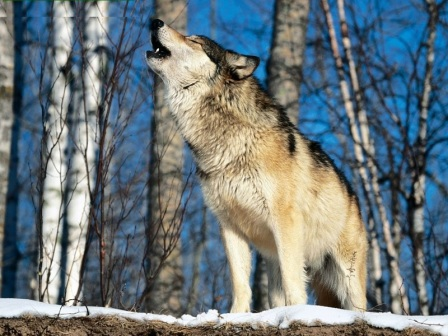Lobo: (105, 17, 408, 310)
